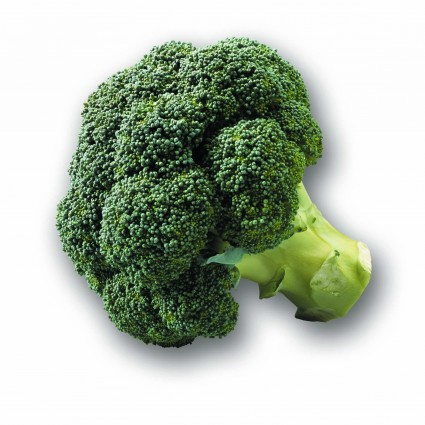broccoli: (53, 35, 374, 350)
